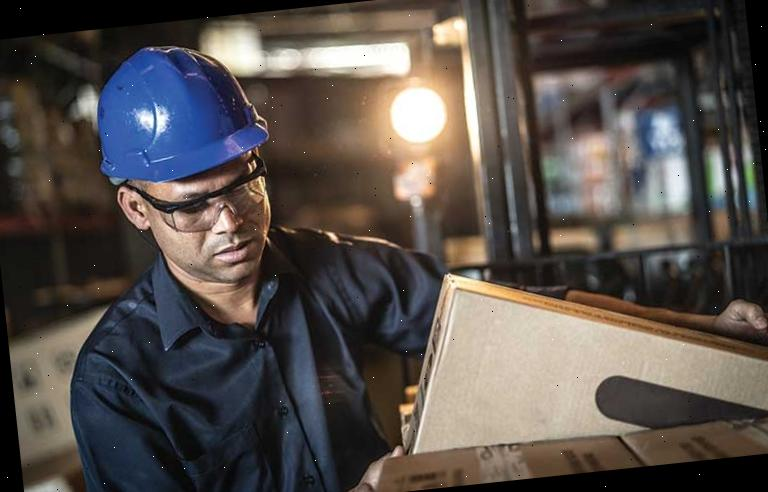helmet: (87, 33, 275, 195)
wear: (56, 257, 443, 492)
